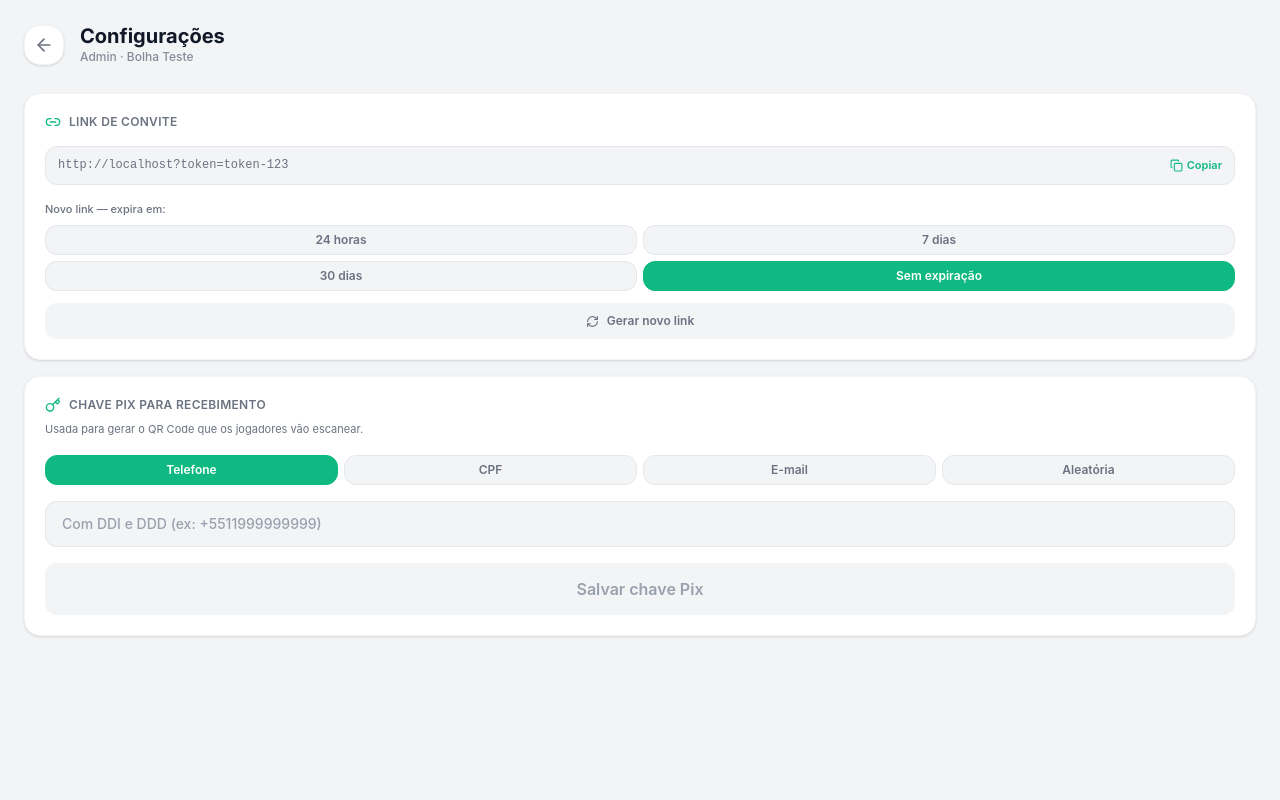
Test case: AdminSettings Component › validates PIX key is required before enabling save
Check: the button "Salvar chave Pix" is disabled, box [45,563,1235,615]
Step 1. Type "a" into the field with placeholder "Com DDI e DDD (ex: +5511999999999)" → [640, 524], box [45,501,1235,547]
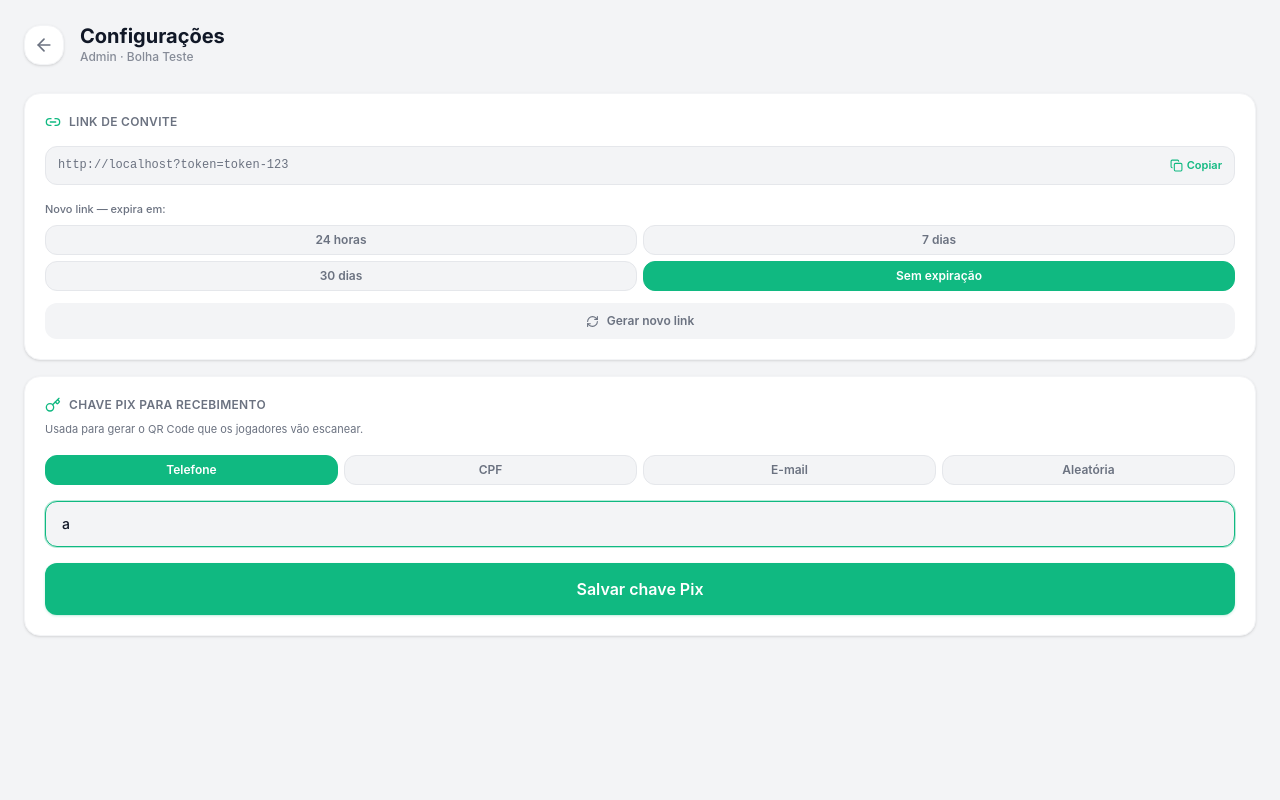
Check: the button "Salvar chave Pix" is enabled, box [45,563,1235,615]
Step 2. Clear the field with placeholder "Com DDI e DDD (ex: +5511999999999)" → [640, 524], box [45,501,1235,547]
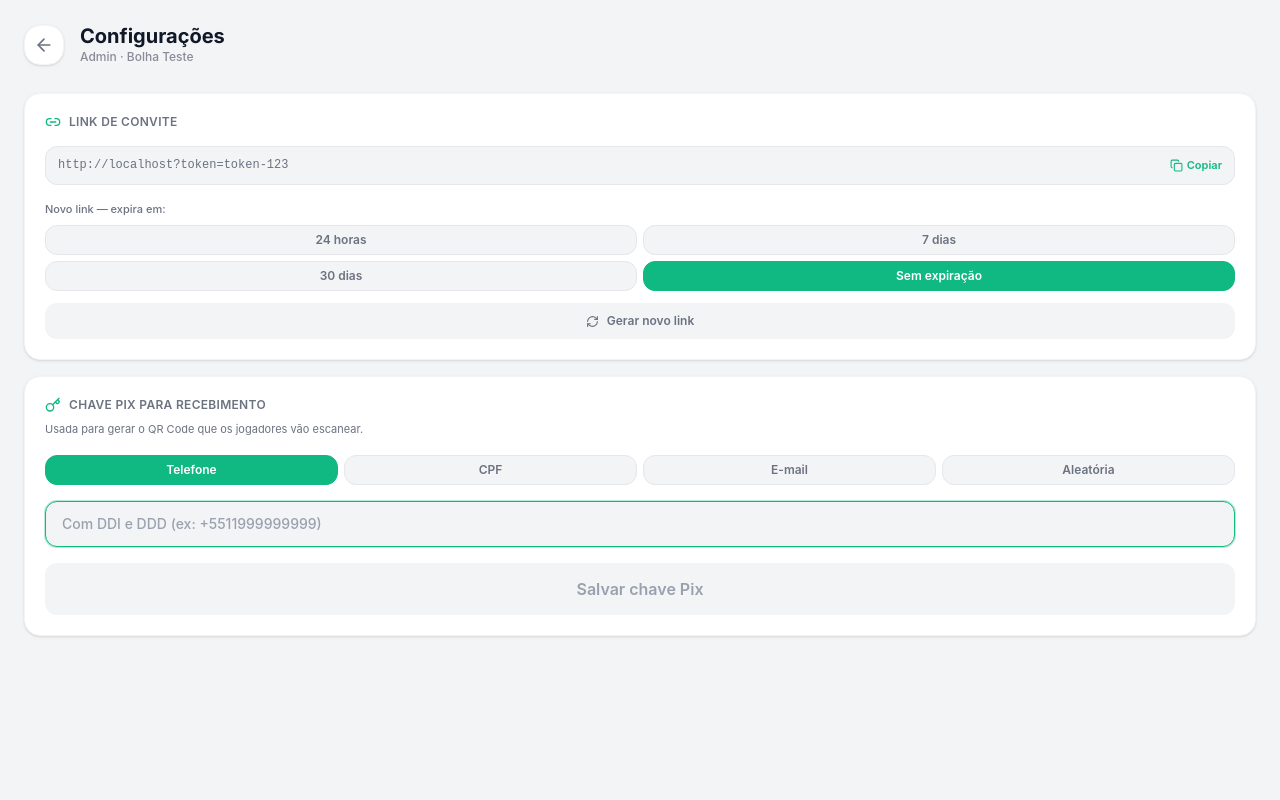
Check: the button "Salvar chave Pix" is disabled, box [45,563,1235,615]
